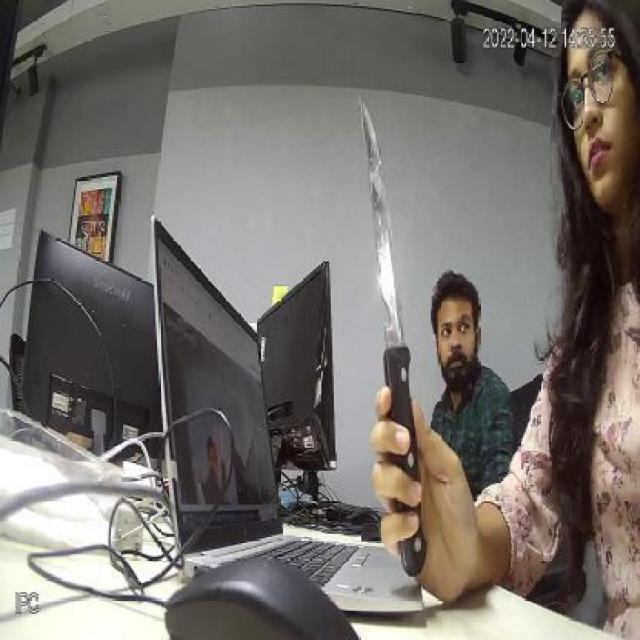-: (353, 74, 419, 395)
